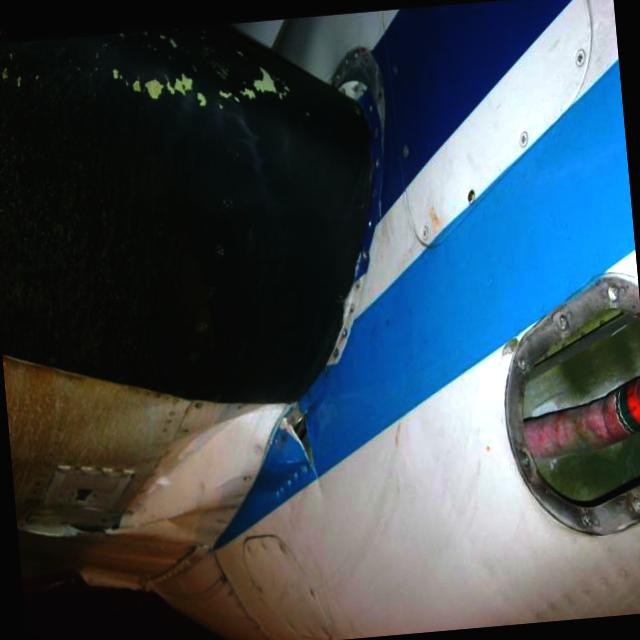crack: (274, 402, 318, 477)
